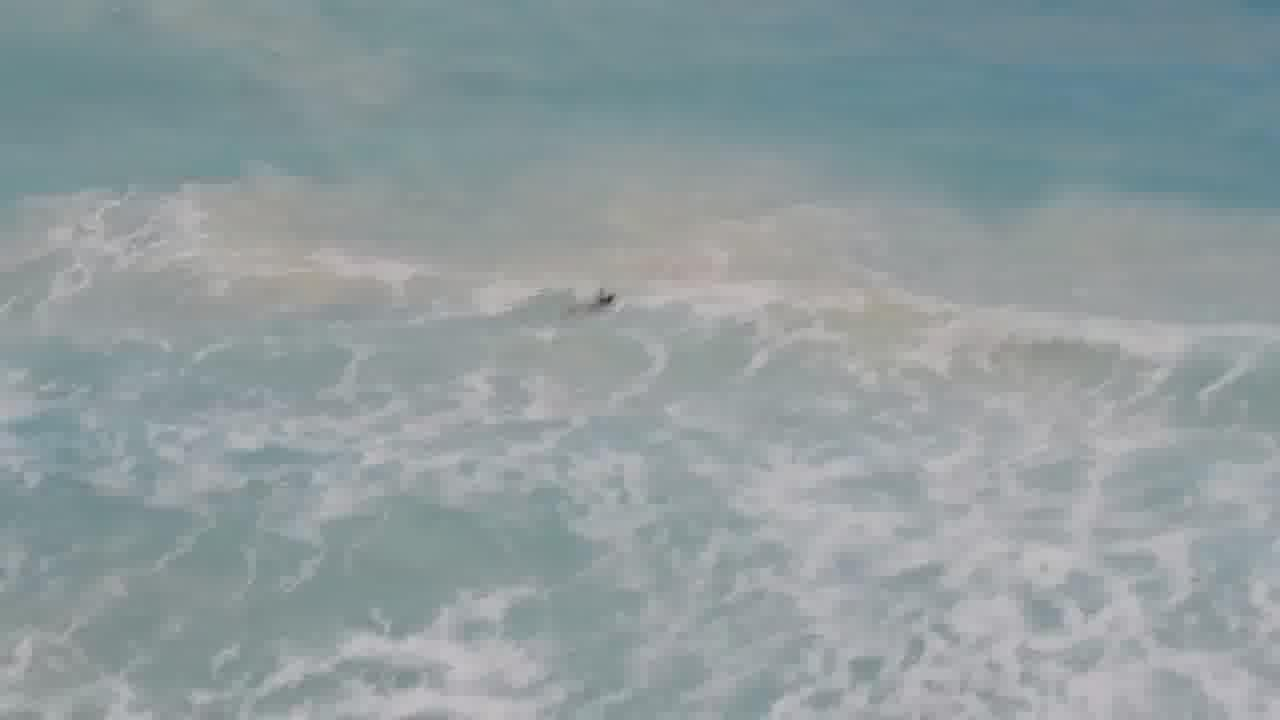human: (579, 270, 636, 327)
